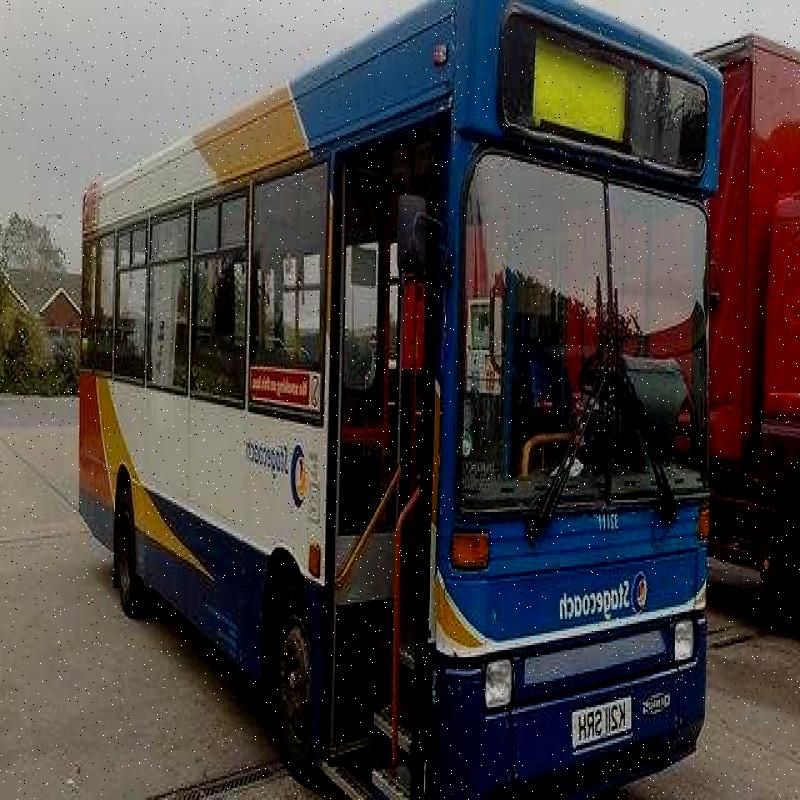bus: (29, 19, 746, 773)
